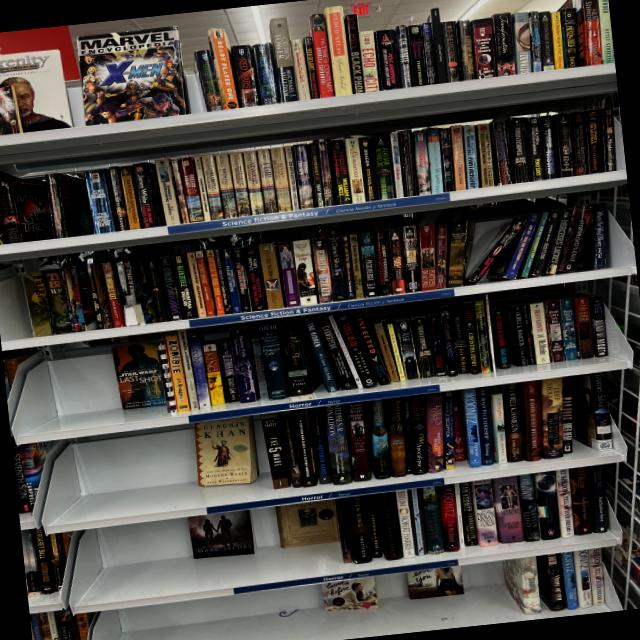book: (464, 213, 529, 289), (302, 136, 367, 208), (488, 205, 544, 287), (329, 310, 381, 391), (312, 313, 362, 393), (559, 0, 612, 68), (275, 317, 319, 398), (374, 226, 425, 295), (200, 151, 251, 220), (370, 130, 419, 200), (18, 526, 63, 598), (368, 26, 417, 92), (350, 313, 393, 388), (68, 262, 113, 332), (521, 206, 562, 282), (70, 262, 113, 332), (256, 320, 291, 401), (116, 257, 156, 327), (323, 6, 354, 96), (207, 27, 240, 111), (115, 257, 155, 326), (59, 264, 99, 333), (557, 202, 594, 275), (268, 16, 299, 103), (303, 317, 338, 394), (581, 373, 613, 452), (323, 405, 354, 486), (228, 326, 260, 404), (530, 208, 563, 280), (412, 312, 448, 378), (261, 414, 292, 490), (490, 476, 524, 545), (475, 122, 511, 186), (83, 168, 117, 235), (309, 13, 335, 98), (278, 412, 307, 488), (191, 48, 224, 114), (369, 319, 402, 385), (519, 211, 550, 279), (164, 334, 191, 412), (345, 403, 372, 481), (130, 162, 161, 229), (504, 557, 541, 613), (344, 495, 374, 564), (470, 479, 500, 548), (367, 400, 393, 479), (292, 409, 318, 488), (229, 43, 260, 108), (574, 0, 604, 66), (187, 331, 212, 410), (176, 329, 200, 411), (540, 379, 564, 459), (506, 303, 536, 367), (574, 548, 606, 608), (257, 242, 285, 310), (584, 203, 612, 271), (376, 491, 403, 561), (170, 253, 198, 320), (346, 403, 370, 481), (568, 467, 595, 536), (534, 471, 561, 540), (392, 317, 421, 381), (525, 301, 554, 365), (73, 264, 101, 330), (385, 397, 408, 477), (291, 238, 318, 306), (255, 42, 284, 105), (158, 254, 185, 321), (252, 42, 280, 106), (213, 152, 240, 218), (428, 7, 451, 84), (536, 553, 566, 612), (470, 18, 499, 79), (309, 408, 332, 484), (202, 249, 228, 316), (581, 204, 607, 271), (276, 241, 302, 308), (118, 164, 144, 231), (461, 389, 483, 467), (178, 156, 204, 222), (488, 120, 514, 186), (503, 384, 525, 462), (538, 11, 567, 70), (460, 301, 483, 375), (503, 304, 530, 367), (420, 487, 445, 555), (437, 484, 462, 552), (290, 143, 316, 208), (344, 14, 365, 94), (101, 261, 126, 328), (374, 28, 401, 90), (491, 12, 517, 76), (517, 473, 541, 542), (309, 237, 334, 303), (587, 466, 611, 534), (327, 137, 351, 205), (359, 496, 384, 561), (445, 220, 469, 287), (61, 266, 85, 333), (193, 250, 217, 317), (44, 172, 68, 239), (33, 526, 56, 595), (201, 154, 225, 220), (372, 134, 396, 200), (242, 150, 266, 216), (268, 146, 292, 212), (20, 529, 43, 597), (553, 470, 576, 538), (9, 443, 31, 514), (216, 339, 240, 404), (185, 251, 208, 318), (522, 381, 541, 461), (229, 151, 252, 217), (256, 148, 279, 214), (507, 116, 530, 182), (156, 339, 177, 411), (202, 343, 226, 406), (473, 298, 493, 373), (454, 19, 478, 81), (383, 320, 407, 382), (509, 304, 533, 366), (409, 396, 428, 474), (245, 244, 267, 311), (105, 167, 128, 231), (524, 117, 547, 181), (395, 489, 416, 559), (553, 112, 575, 178), (212, 249, 234, 315), (410, 129, 432, 195), (543, 300, 566, 363), (249, 331, 270, 400), (327, 236, 349, 301), (489, 389, 508, 464), (476, 387, 494, 465), (401, 226, 422, 292), (572, 296, 594, 359), (169, 158, 190, 224), (489, 306, 511, 369), (358, 232, 379, 298), (426, 396, 444, 472), (406, 24, 428, 86), (439, 306, 458, 377), (408, 489, 428, 556), (359, 30, 380, 93), (512, 12, 533, 74), (358, 138, 379, 200), (441, 20, 462, 82), (458, 482, 478, 546), (437, 128, 457, 192), (418, 224, 437, 291), (475, 124, 495, 187), (393, 25, 413, 88), (193, 156, 212, 222), (48, 533, 69, 592), (317, 141, 336, 206), (531, 556, 553, 612), (451, 311, 470, 375), (365, 494, 384, 558), (360, 137, 379, 201), (540, 116, 559, 180), (301, 35, 320, 99), (585, 110, 604, 173), (69, 266, 88, 329), (307, 142, 325, 208), (388, 229, 406, 294), (335, 499, 353, 564), (374, 231, 392, 295), (570, 112, 588, 175), (388, 132, 405, 198), (589, 295, 607, 357), (348, 234, 365, 299), (574, 550, 593, 608), (526, 11, 544, 72), (450, 398, 467, 462), (463, 124, 480, 188), (560, 552, 578, 610), (601, 108, 617, 172), (402, 397, 415, 473), (421, 22, 436, 85), (443, 392, 455, 469), (453, 484, 467, 548), (550, 12, 565, 69), (61, 609, 89, 639), (562, 378, 573, 454), (56, 608, 79, 640), (47, 611, 62, 640), (29, 613, 45, 640), (266, 280, 278, 290)
